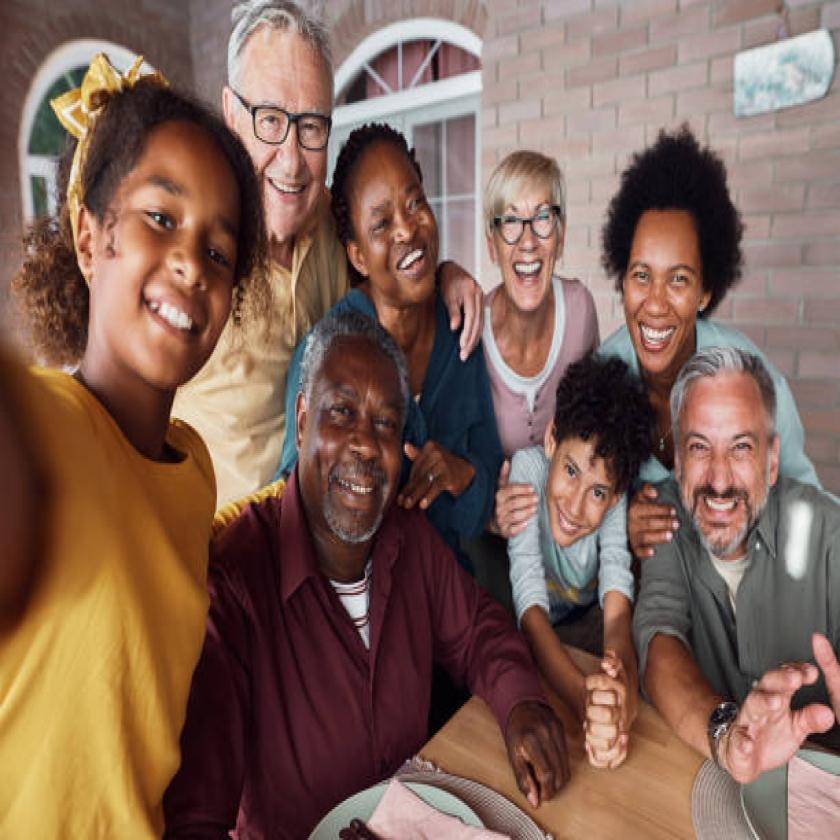Sin_casco: (35, 45, 271, 463), (599, 109, 758, 376), (662, 345, 836, 580), (203, 0, 333, 247), (320, 114, 455, 314), (297, 313, 405, 556), (544, 337, 654, 574), (480, 130, 572, 319)
